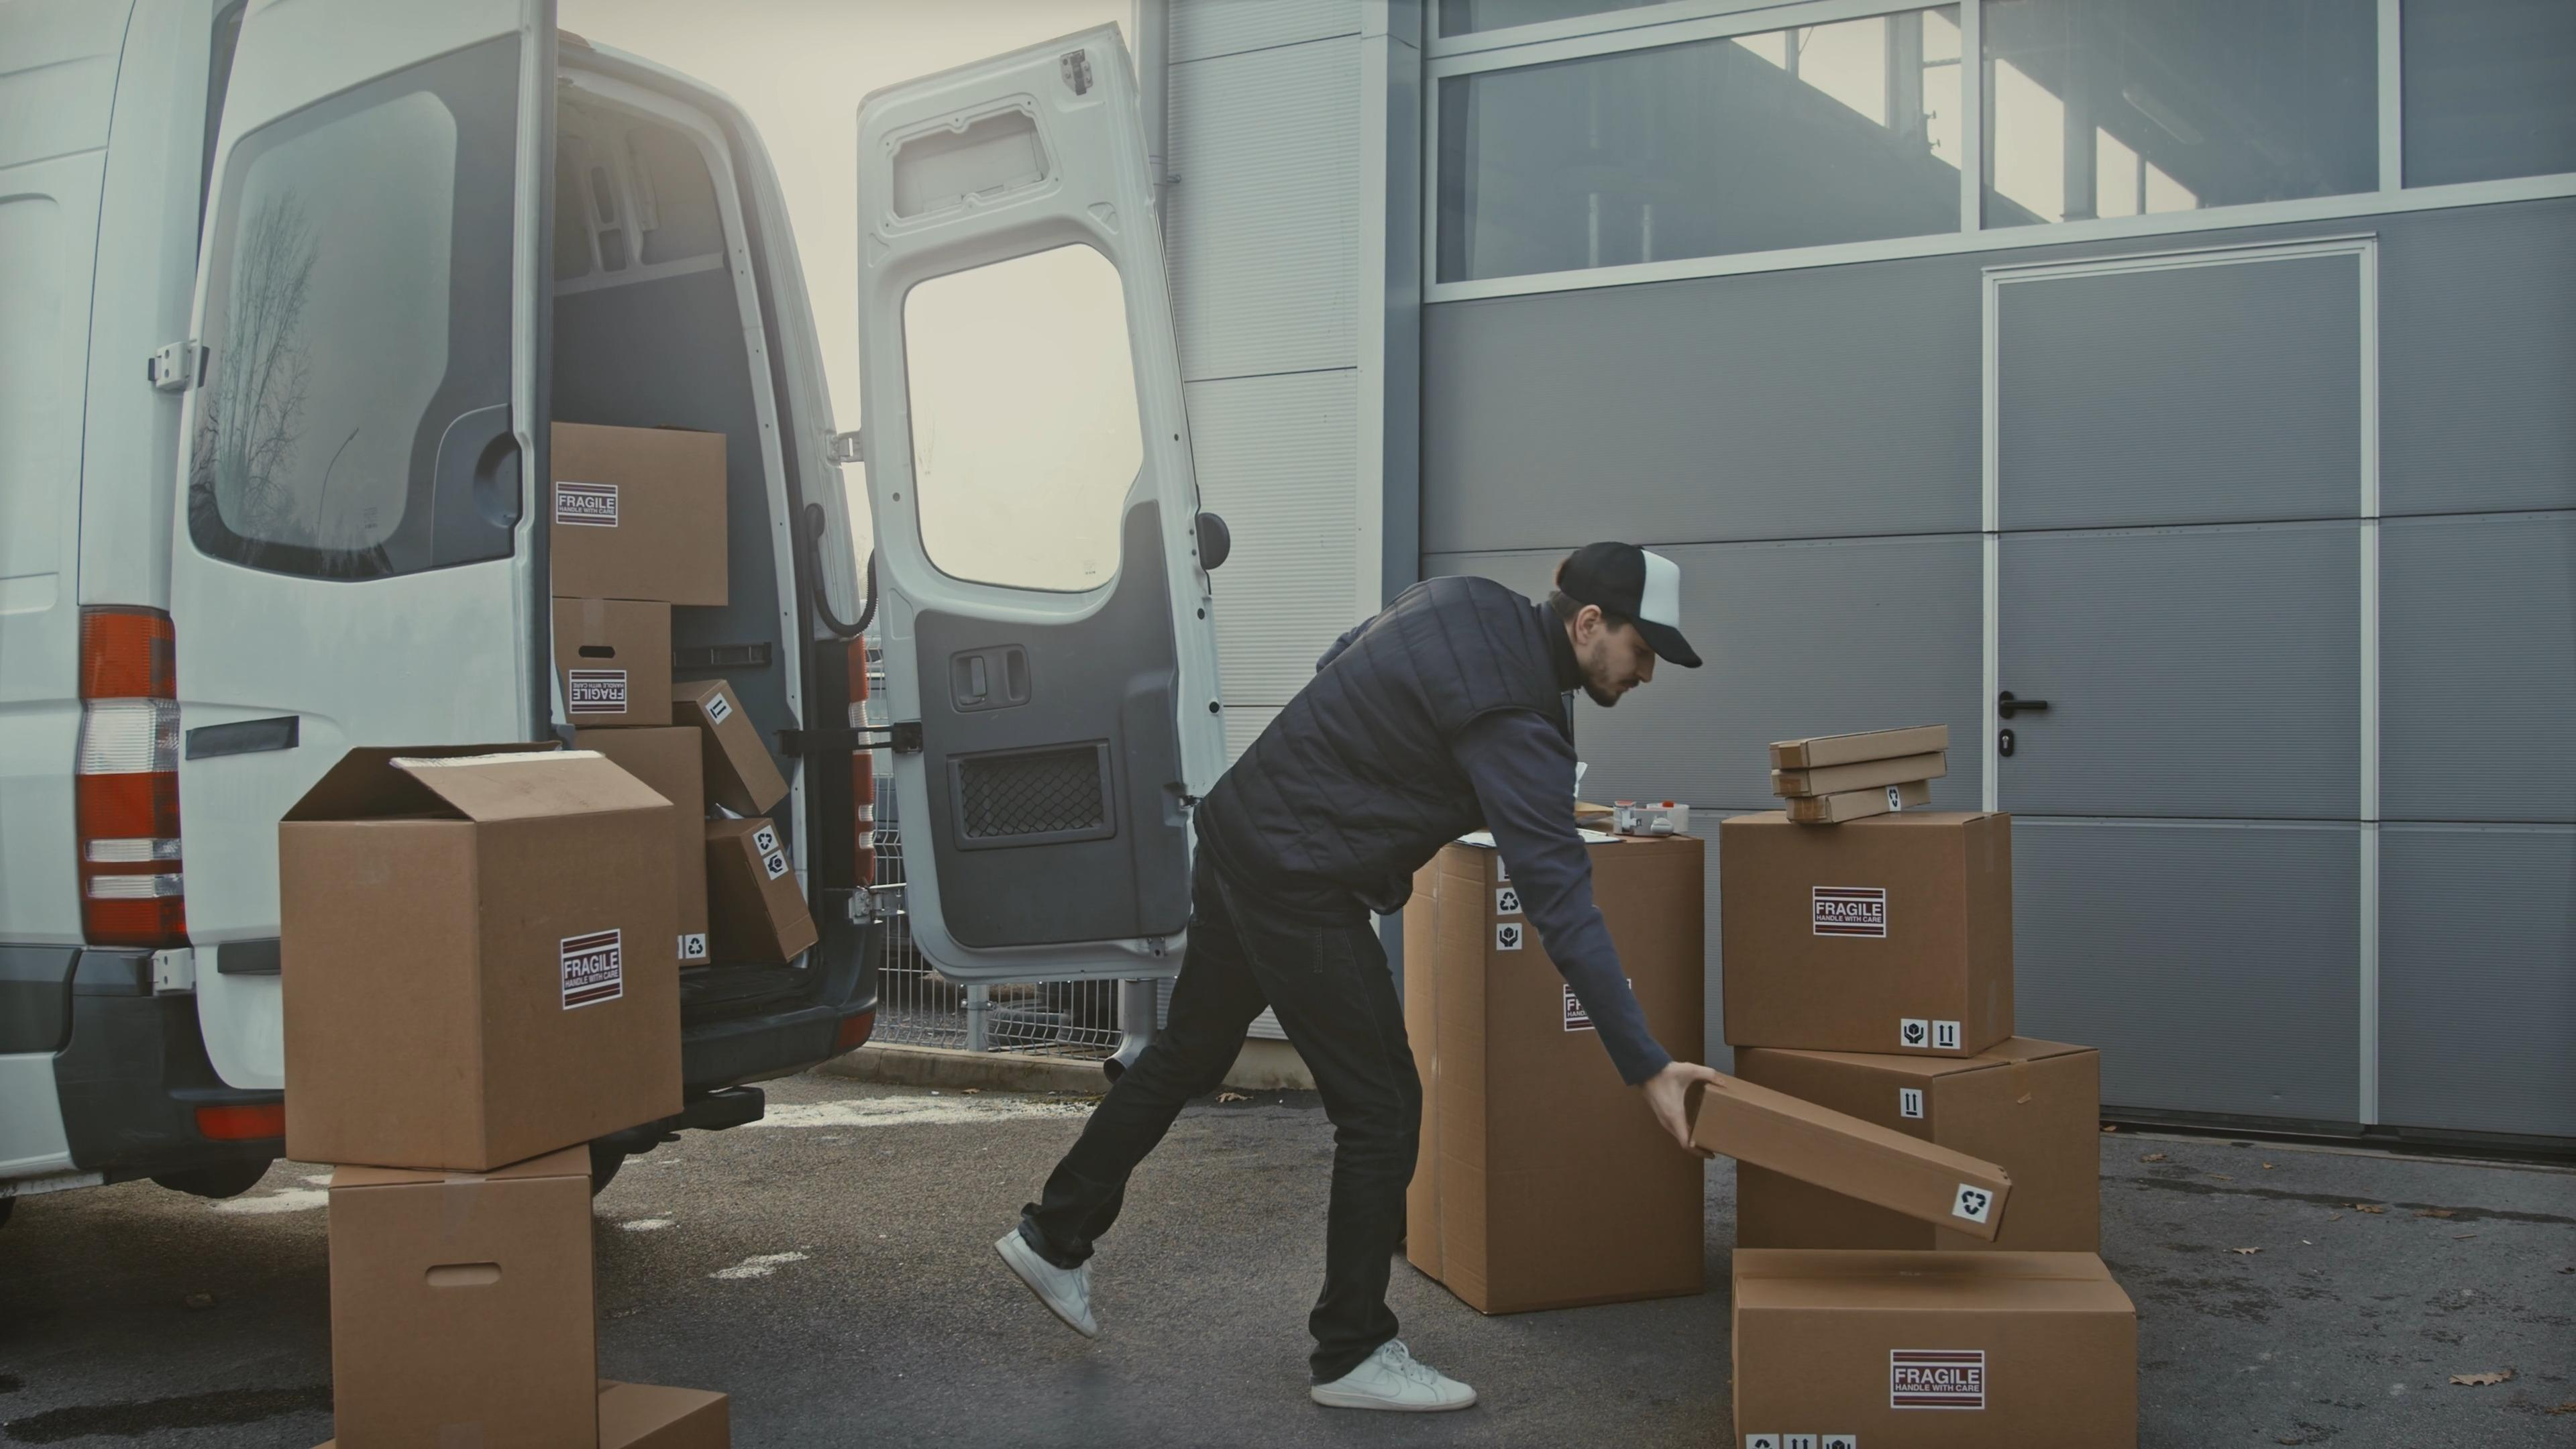-: (281, 736, 688, 1164), (1403, 830, 1711, 1315), (1741, 1242, 2157, 1449), (1707, 805, 2028, 1069), (329, 1155, 603, 1447), (1744, 1051, 2100, 1249), (1681, 1058, 2017, 1235), (538, 414, 732, 603), (561, 602, 678, 725)
